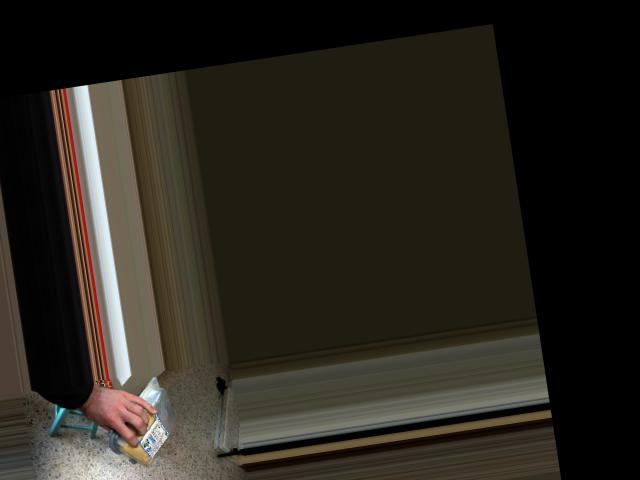cheese: (115, 373, 174, 466)
